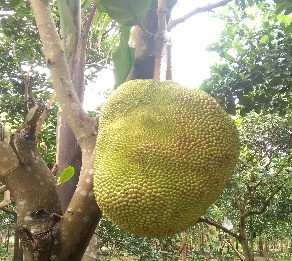Mit: (93, 80, 240, 239)
